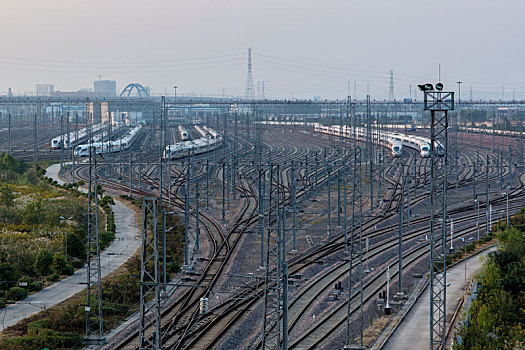hsrw: (311, 120, 403, 157), (74, 123, 147, 158), (161, 125, 226, 161), (50, 120, 113, 149), (404, 136, 431, 158), (434, 134, 447, 159), (176, 119, 190, 142)
